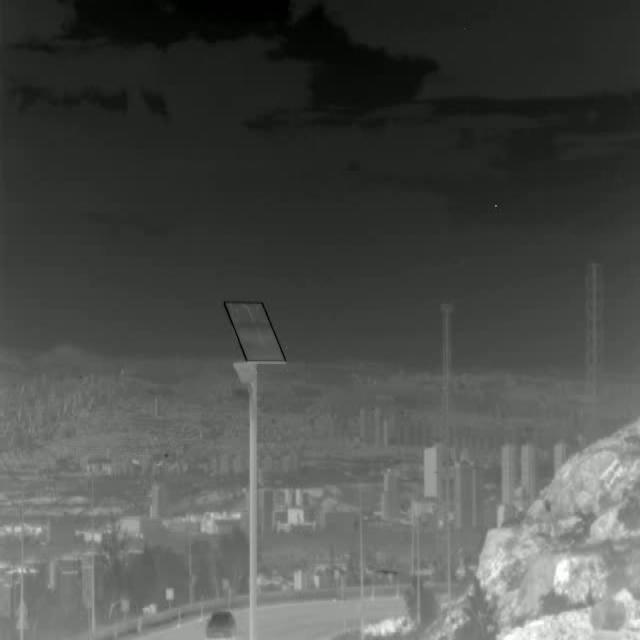Car: (207, 610, 236, 639)
